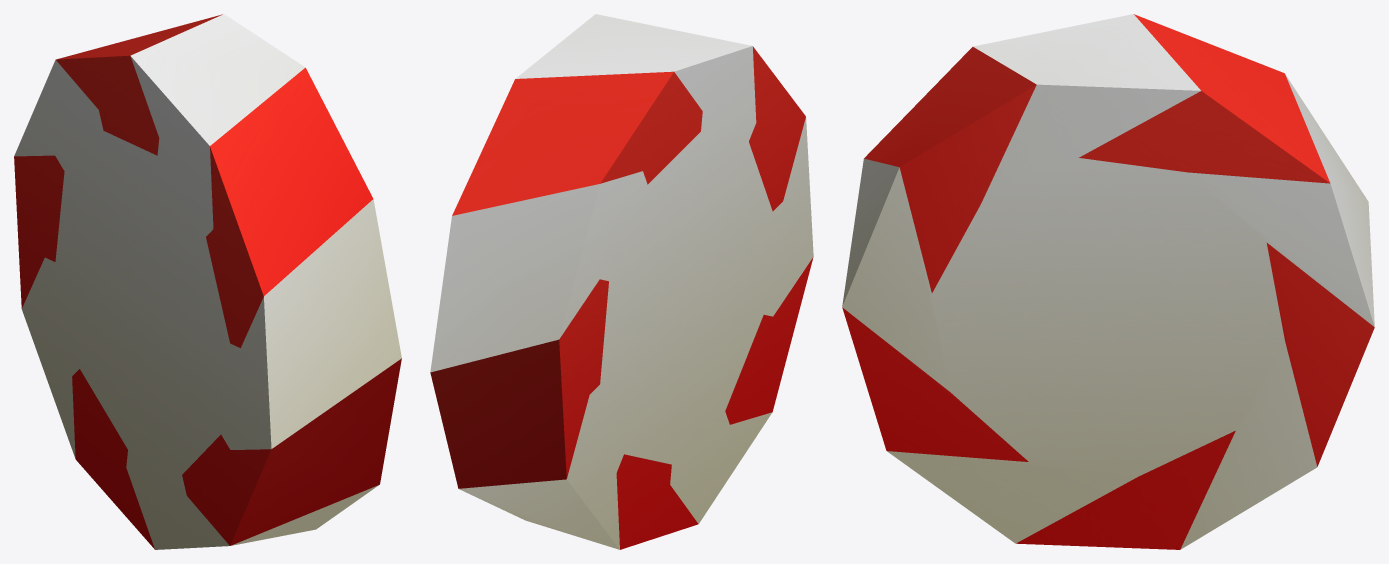
The model's file is HPart_Sugar_Whole.fbx.
3 renders of one model, left to right at view 1: azimuth 30°, elevation 25°; view 2: azimuth 150°, elevation 25°; view 3: azimuth 270°, elevation 25°, orthographic. The views are drawn at different scales.
Visible parts, largest first — view 1: cane_final1; view 2: cane_final1; view 3: cane_final1.
Part boxes in pixels (x1,y1,x2,y2): cane_final1: [14, 14, 401, 549]; cane_final1: [430, 14, 813, 549]; cane_final1: [842, 14, 1374, 549].
Bounding box in the file's own units: 0.229 × 0.8181 × 0.8211.
